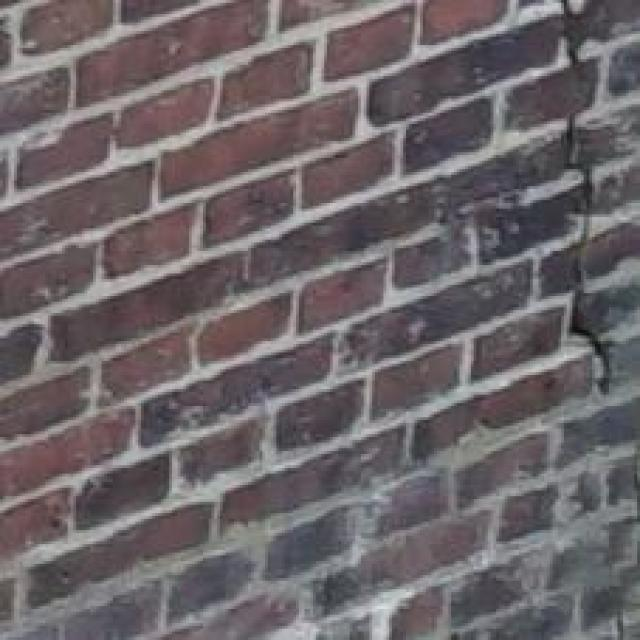Crack: (449, 0, 640, 405)
